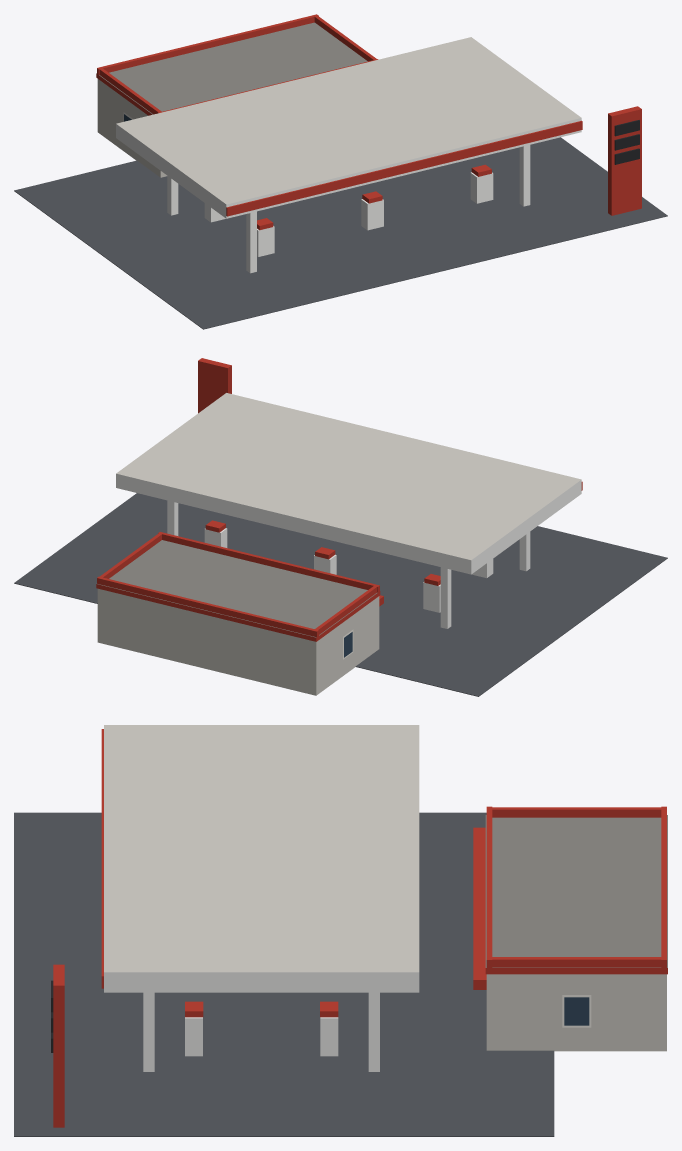
Rendered from station_service.glb.
The picture shows the model from 3 angles, top to bottom: view 1: azimuth 30°, elevation 25°; view 2: azimuth 150°, elevation 25°; view 3: azimuth 270°, elevation 25°; orthographic projection. The views are drawn at different scales.
Parts seen in each view (by area): view 1: station_service; view 2: station_service; view 3: station_service.
Boxes of the visible parts, box(x1,y1,x2,y2) form: station_service: box(14, 14, 667, 329); station_service: box(14, 358, 667, 696); station_service: box(14, 725, 667, 1136).
Size of the model in its own units: 34 by 7 by 29.05.
1 material, 1 textured.
